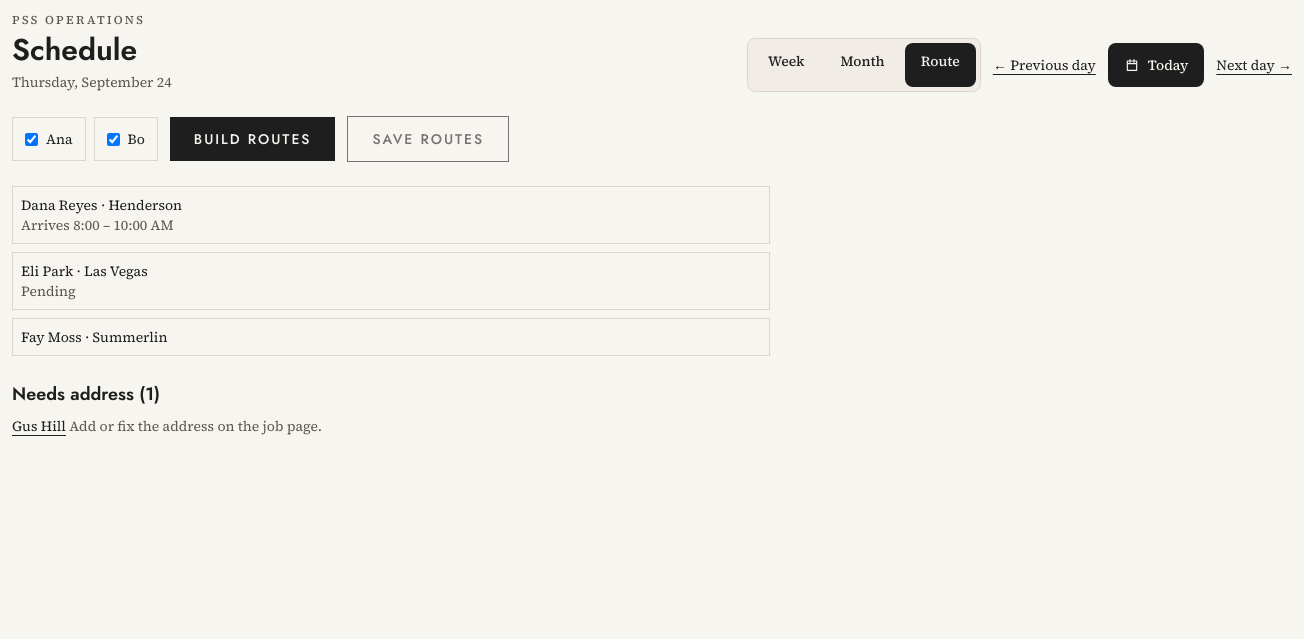
Test: Build routes › builds for the checked installers and shows each route, the misfits and a directions link
The image size is (1304, 639).
Click the checkbox labelled "Bo": [113, 139] box top-left (106, 132), bottom-right (120, 146)
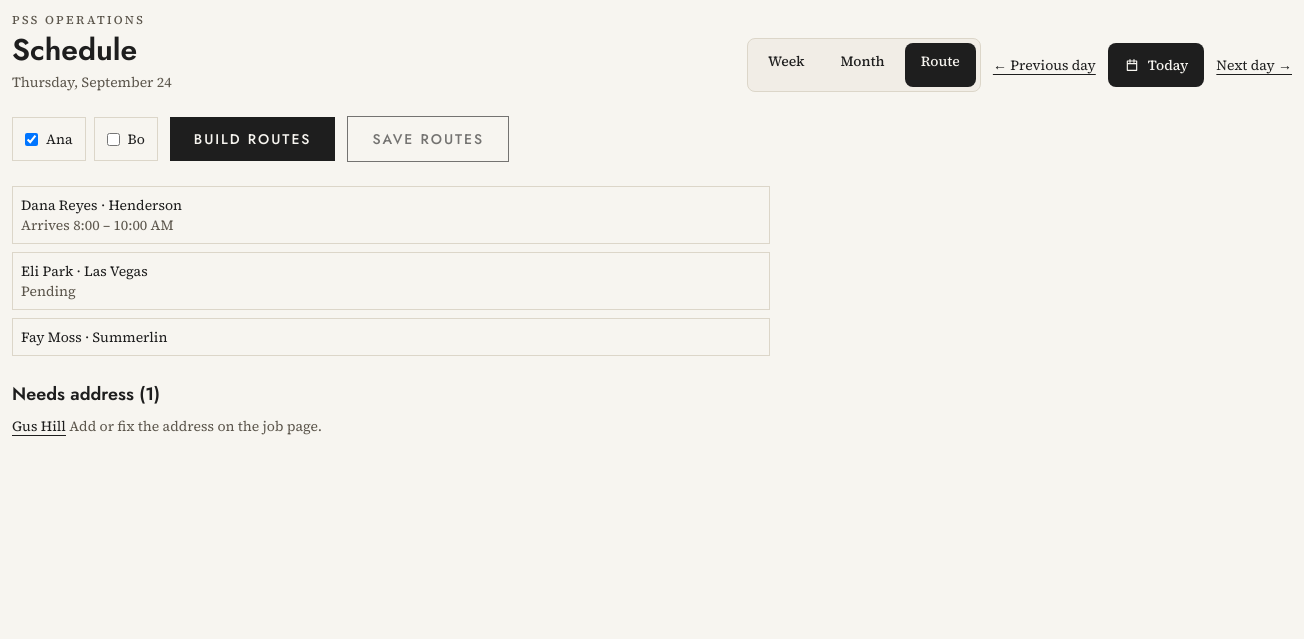
Click the button "Build routes": [253, 139] box top-left (170, 117), bottom-right (335, 161)
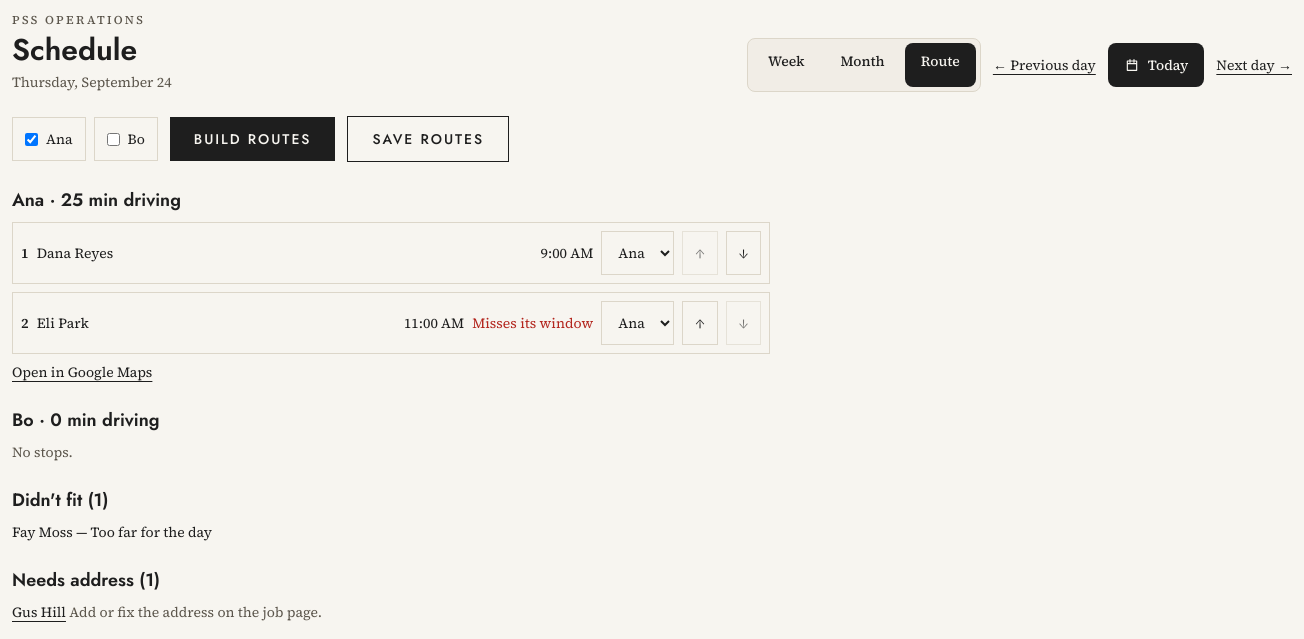
expect the element "Ana · 25 min driving" is shown: met, box top-left (12, 186), bottom-right (770, 382)
expect the list item "1 Dana Reyes 9:00 AM ↑ ↓" is shown: met, box top-left (12, 222), bottom-right (770, 284)
expect the list item "2 Eli Park 11:00 AM Misses its window ↑ ↓" is shown: met, box top-left (12, 292), bottom-right (770, 354)
